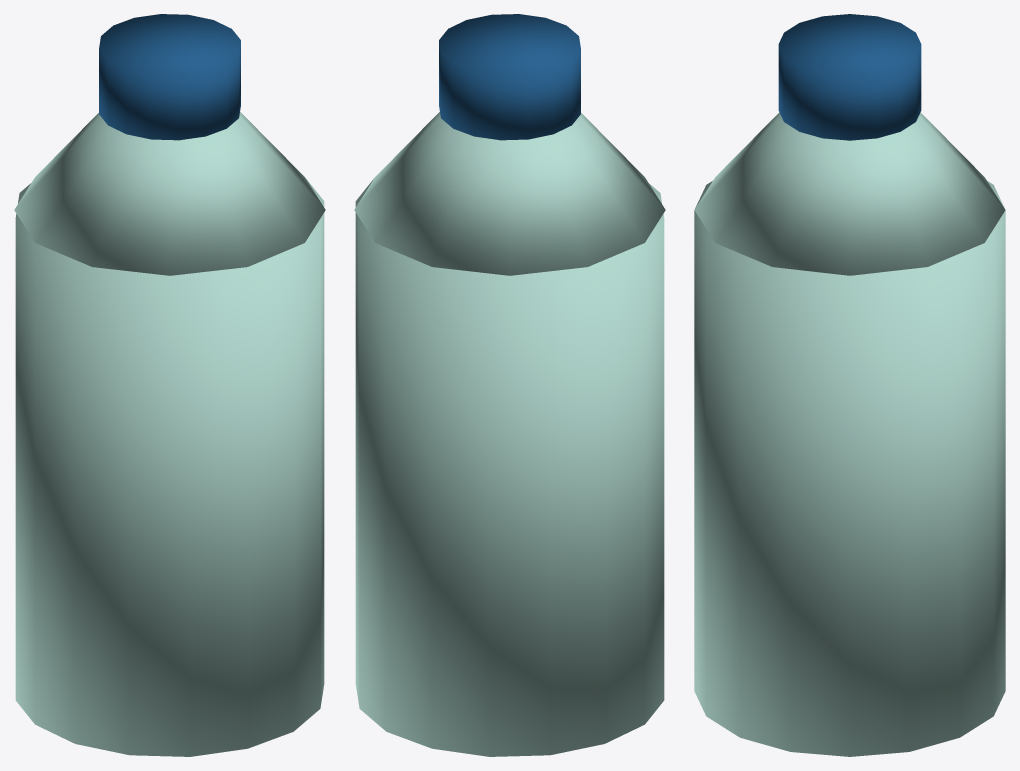
File: CP07-5-bottle.glb
The picture shows the model from 3 angles, left to right: view 1: azimuth 30°, elevation 25°; view 2: azimuth 150°, elevation 25°; view 3: azimuth 270°, elevation 25°; orthographic projection.
Visible parts, largest first — view 1: CP07-5-bottle; view 2: CP07-5-bottle; view 3: CP07-5-bottle.
Part boxes in pixels (x1=…): CP07-5-bottle: x1=14, y1=14, x2=325, y2=756; CP07-5-bottle: x1=354, y1=14, x2=665, y2=756; CP07-5-bottle: x1=694, y1=14, x2=1005, y2=756.
Size of the model in its own units: 0.17 by 0.39 by 0.17.
